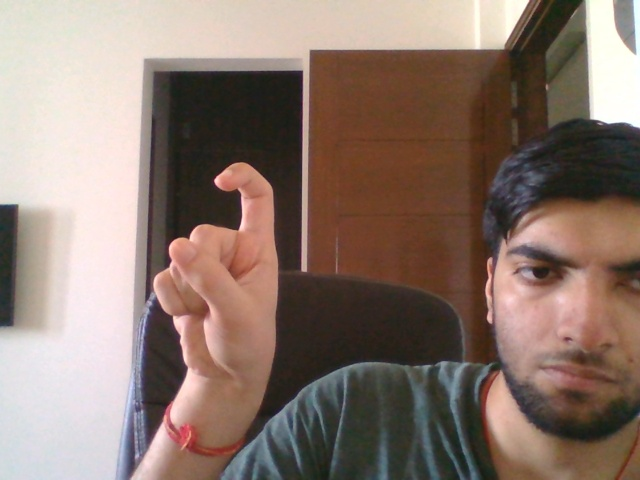LetterZ: (151, 156, 282, 389)
